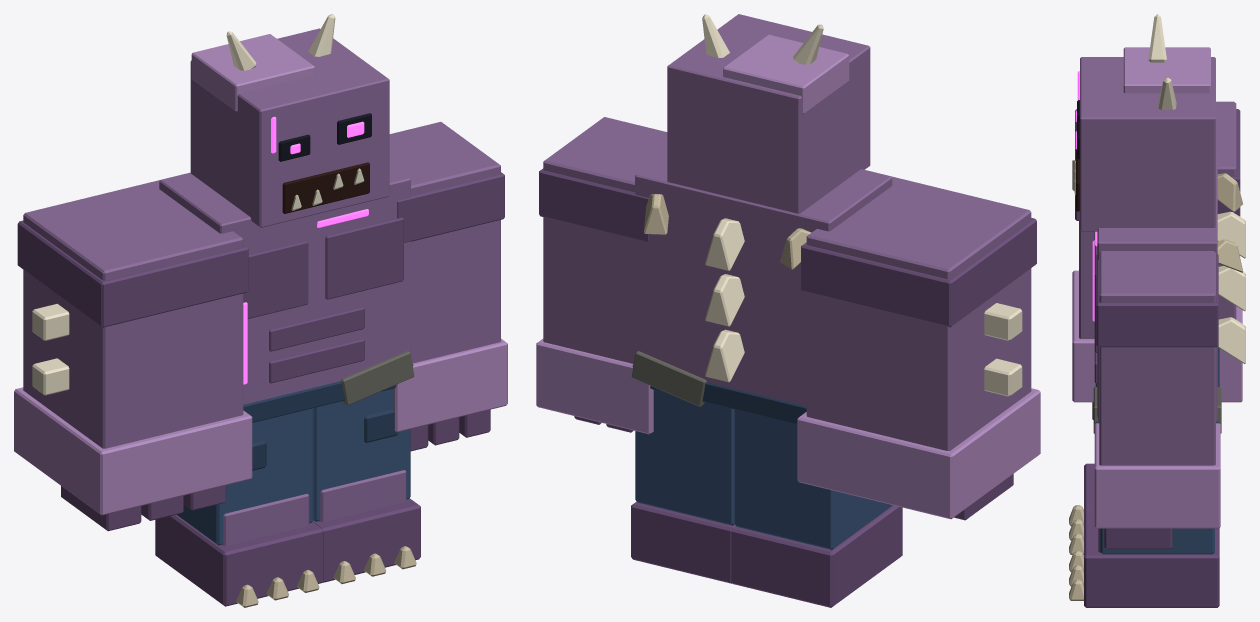
The model's file is myw_zombiemutant.glb.
3 renders of one model, left to right at view 1: azimuth 30°, elevation 25°; view 2: azimuth 150°, elevation 25°; view 3: azimuth 270°, elevation 25°, orthographic. The views are drawn at different scales.
Parts seen in each view (by area): view 1: RightArm, Torso, Head, LeftArm, RightLeg, LeftLeg, Hat; view 2: RightArm, Torso, Head, LeftArm, RightLeg, LeftLeg, Hat; view 3: LeftArm, Head, LeftLeg, Torso, RightArm, RightLeg, Hat.
Boxes of the visible parts, <box> form: RightArm: <box>14,180,252,531</box>; Torso: <box>159,164,414,422</box>; Head: <box>190,28,389,227</box>; LeftArm: <box>389,122,507,451</box>; RightLeg: <box>155,408,322,607</box>; LeftLeg: <box>312,388,420,583</box>; Hat: <box>226,14,335,70</box>; RightArm: <box>797,176,1040,520</box>; Torso: <box>631,152,892,424</box>; Head: <box>667,14,870,213</box>; LeftArm: <box>536,117,667,434</box>; RightLeg: <box>731,409,902,607</box>; LeftLeg: <box>631,390,735,583</box>; Hat: <box>702,14,823,64</box>; LeftArm: <box>1094,251,1220,549</box>; Head: <box>1072,47,1215,231</box>; LeftLeg: <box>1069,509,1219,607</box>; Torso: <box>1092,152,1245,433</box>; RightArm: <box>1072,101,1242,419</box>; RightLeg: <box>1069,463,1094,554</box>; Hat: <box>1148,14,1176,109</box>.
Size of the model in its own units: 5.05 by 5.93 by 1.82.
